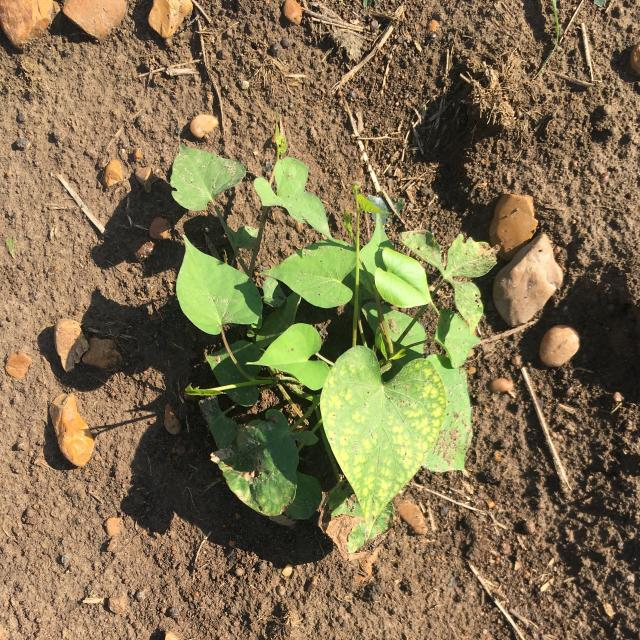MorningGlory: (171, 122, 500, 555)
